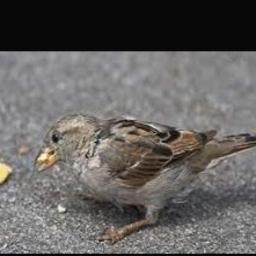Sparrow: (32, 113, 256, 243)
